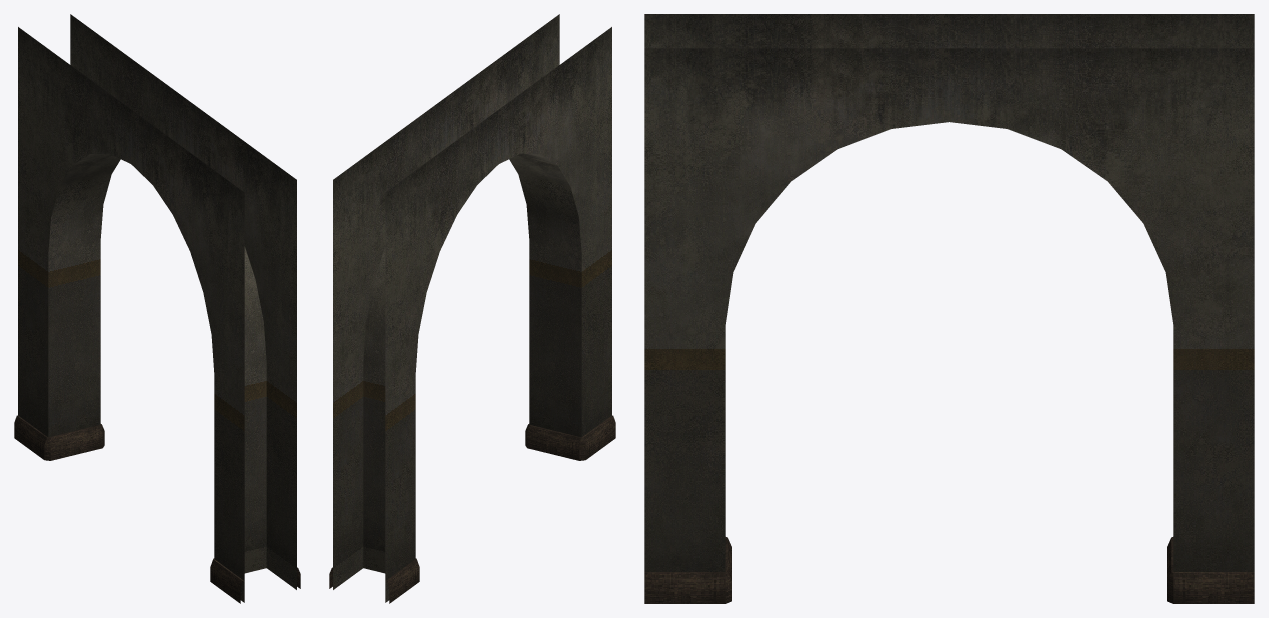
The model's file is arc_2_wall_1.glb.
The picture shows the model from 3 angles, left to right: view 1: azimuth 30°, elevation 25°; view 2: azimuth 150°, elevation 25°; view 3: azimuth 270°, elevation 25°; orthographic projection. The views are drawn at different scales.
Parts seen in each view (by area): view 1: arc_2_wall_1; view 2: arc_2_wall_1; view 3: arc_2_wall_1.
Part boxes in pixels (bbox=[...]): arc_2_wall_1: bbox=[14, 14, 300, 603]; arc_2_wall_1: bbox=[329, 14, 615, 603]; arc_2_wall_1: bbox=[644, 14, 1254, 603].
Size of the model in its own units: 0.46 by 3 by 3.
Materials: 2 (2 with a texture image).
